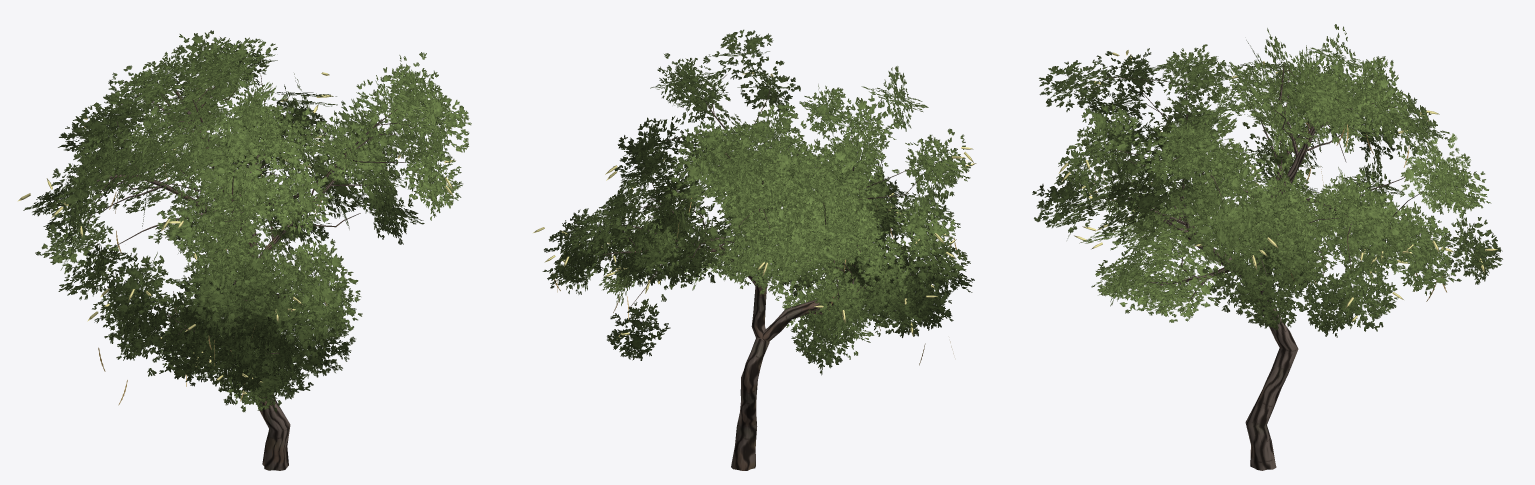
Rendered from young-b.lod0.glb.
3 renders of one model, left to right at view 1: azimuth 30°, elevation 25°; view 2: azimuth 150°, elevation 25°; view 3: azimuth 270°, elevation 25°, orthographic. The views are drawn at different scales.
Visible parts, largest first — view 1: foliage, bark, flowers; view 2: foliage, bark, flowers; view 3: foliage, bark, flowers.
Part boxes in pixels (x1=…): foliage: x1=23, y1=30, x2=471, y2=413; bark: x1=76, y1=71, x2=431, y2=470; flowers: x1=17, y1=72, x2=455, y2=394; foliage: x1=542, y1=29, x2=974, y2=375; bark: x1=598, y1=75, x2=919, y2=470; flowers: x1=533, y1=72, x2=976, y2=339; foliage: x1=1032, y1=24, x2=1502, y2=337; bark: x1=1103, y1=65, x2=1450, y2=470; flowers: x1=1058, y1=50, x2=1497, y2=321.
Size of the model in its own units: 3.79 by 3.8 by 4.14.
Materials: 5 (3 with a texture image).
